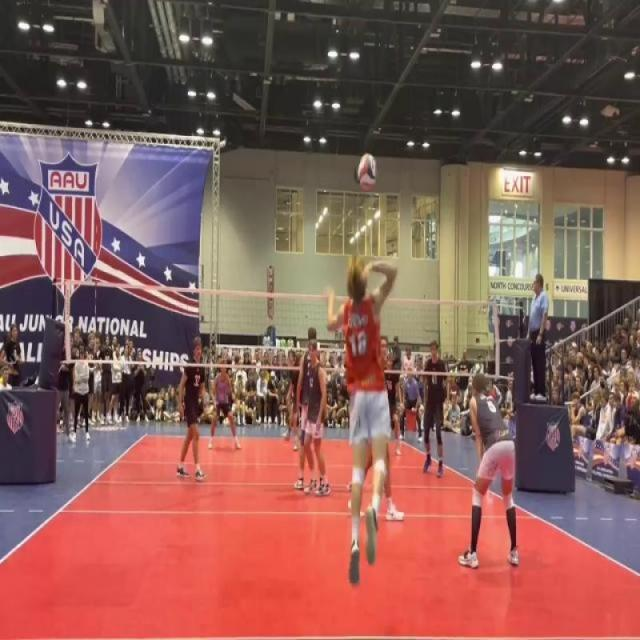volleyball: (356, 150, 379, 193)
